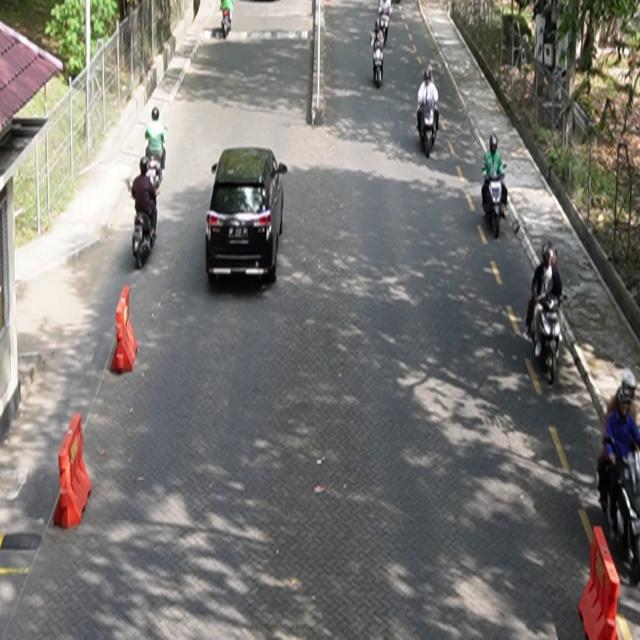car: (206, 146, 288, 286)
